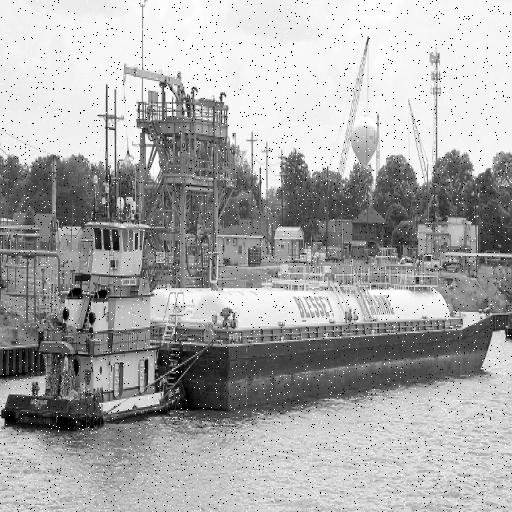tugboat: (1, 214, 186, 436)
